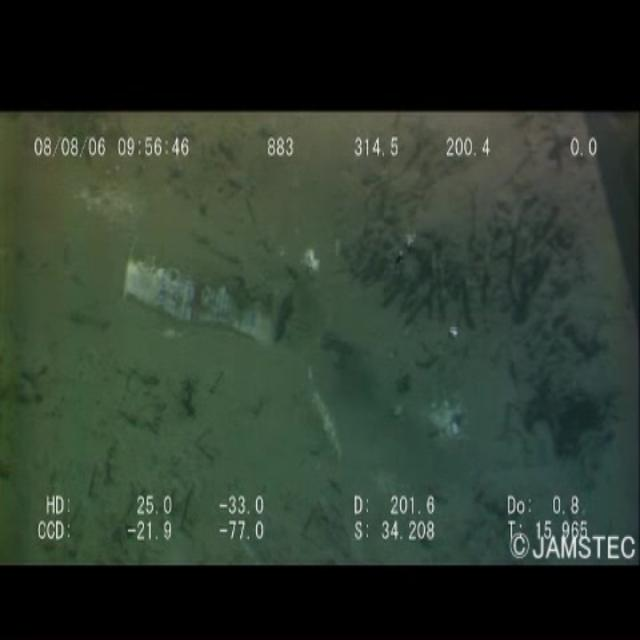Glass: (105, 220, 292, 369)
